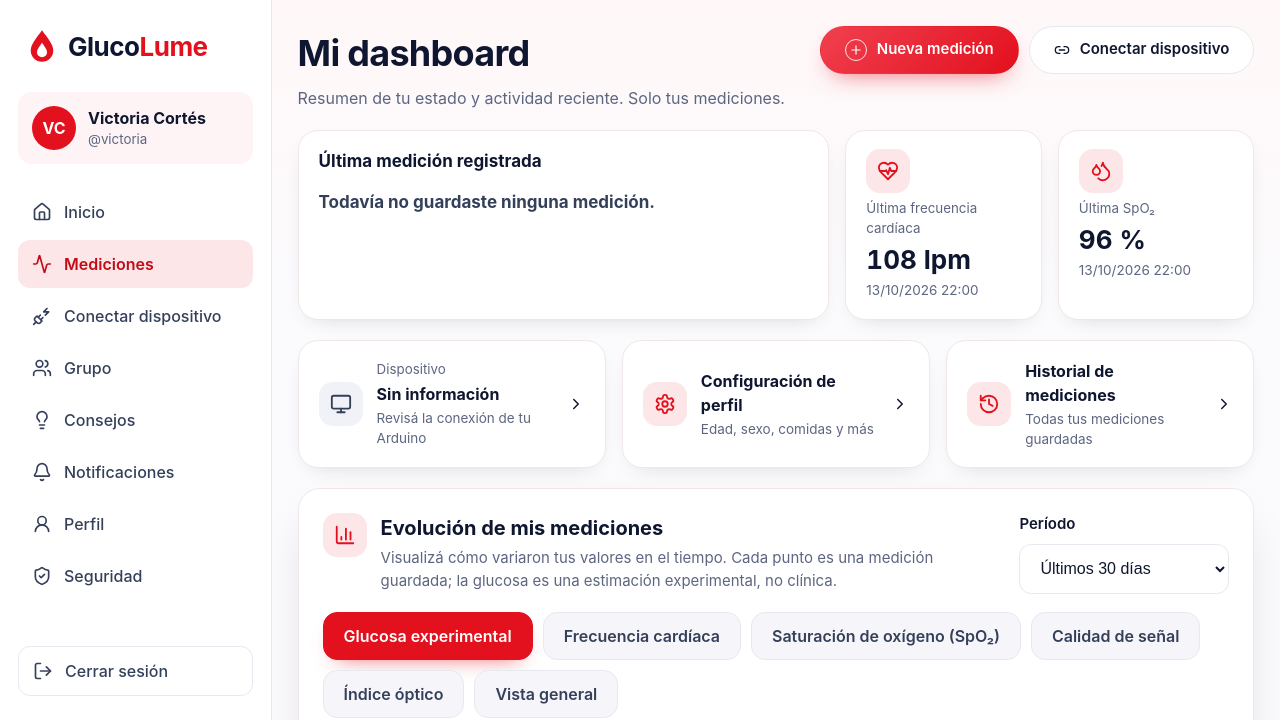
Mediciones: dashboard › las tarjetas y el gráfico usan las mediciones reales del período; cada variable tiene su unidad
Expected: the list item "Última frecuencia cardíaca" shows "108 lpm", [866,244,971,275]
Expected: the list item "Última SpO₂" shows "96 %", [1079,224,1146,255]
Note: Frecuencia cardíaca: un punto por medición, con su valor exacto.
Click the tab "Frecuencia cardíaca" at (642, 636), box [543,612,741,660]
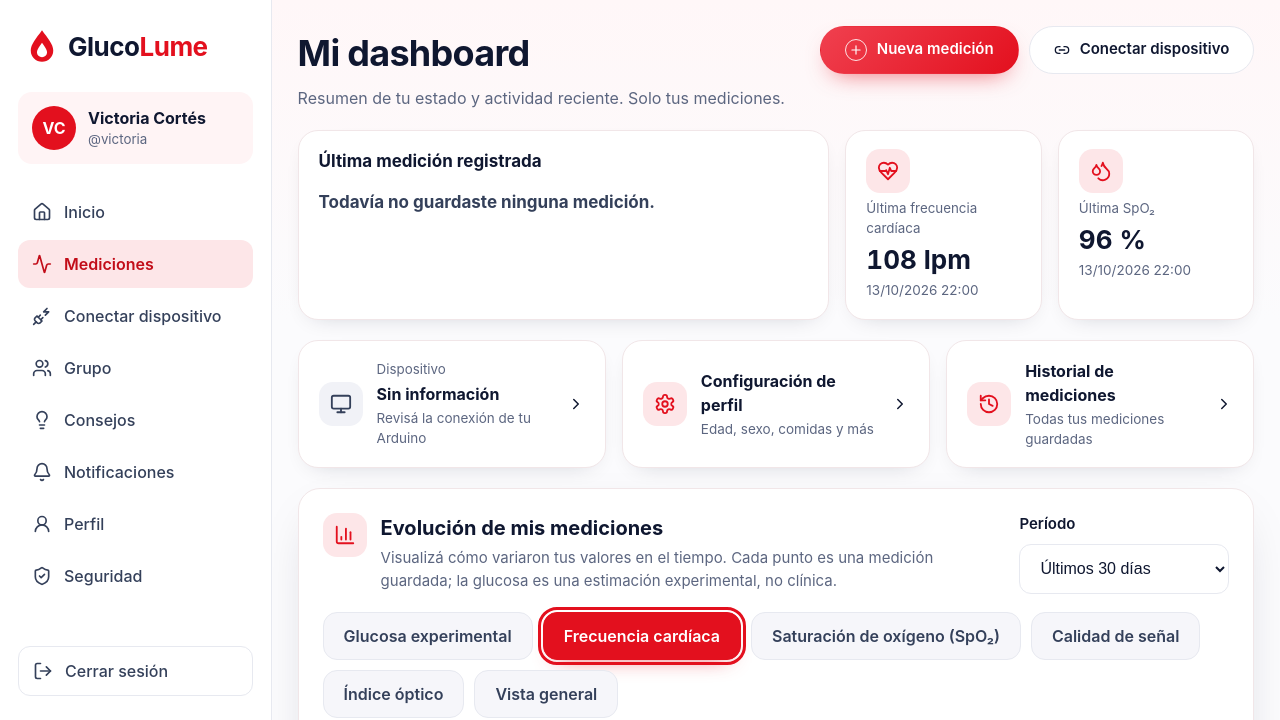
Note: Cambiar la variable cambia datos, escala y unidad.
Click the tab "Saturación de oxígeno (SpO₂)" at (886, 636), box [751,612,1021,660]
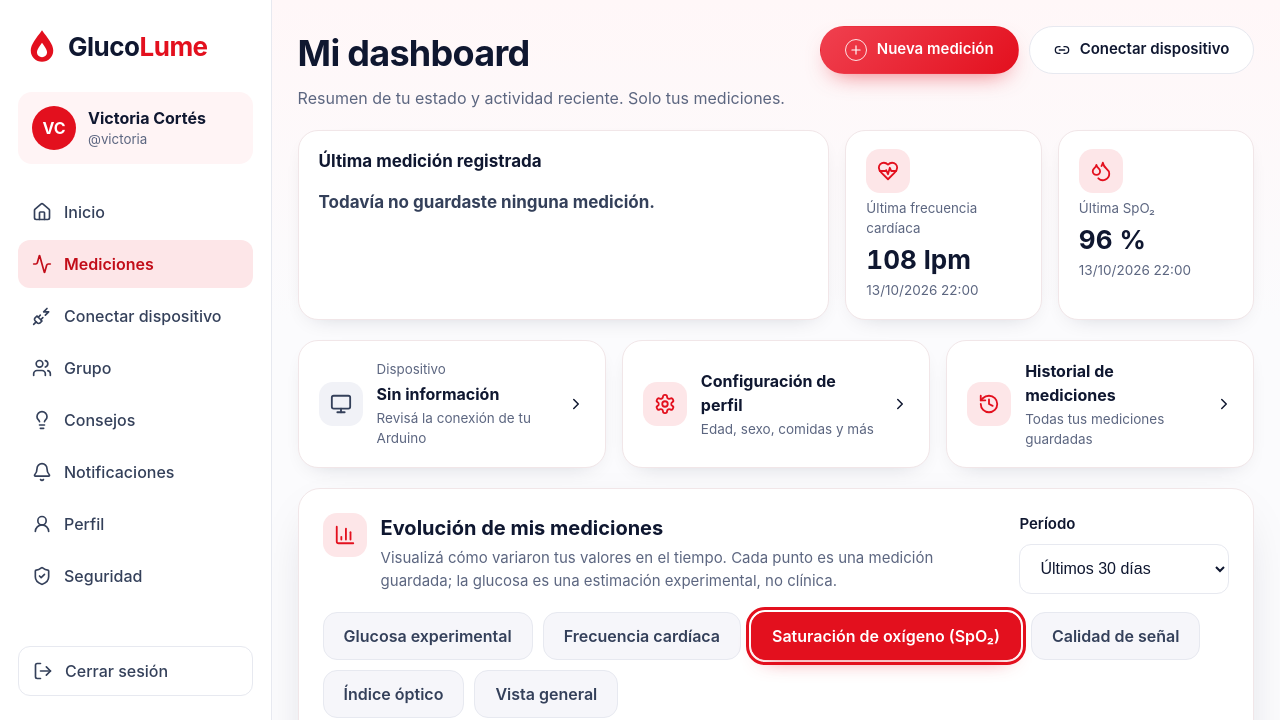
Note: Glucosa experimental: solo los valores que existen (la medición SIN_CALIBRAR no aporta ninguno).
Click the tab "Glucosa experimental" at (428, 636), box [323,612,533,660]
(page scrolled)
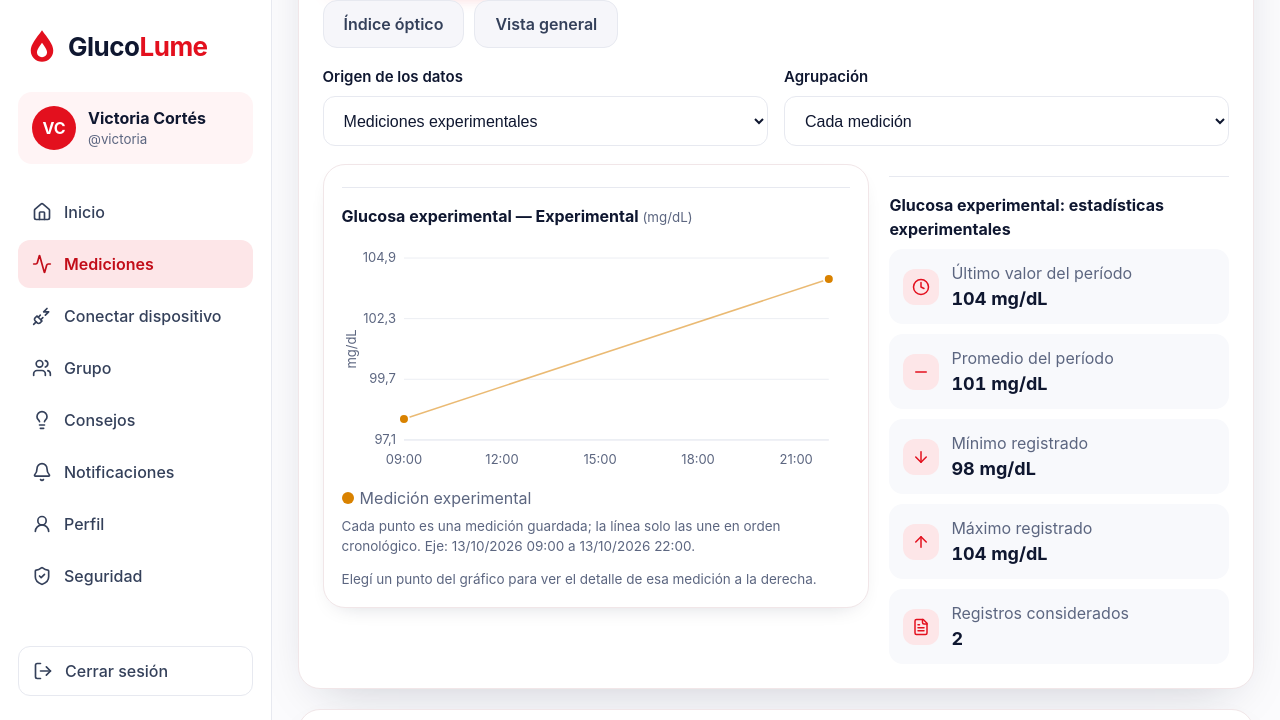
Now the icon named "Glucosa experimental: 2 puntos" is shown, box [342,240,850,480]
